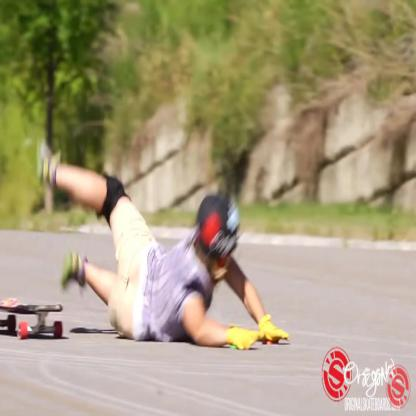Fall_Down: (37, 136, 294, 356)
